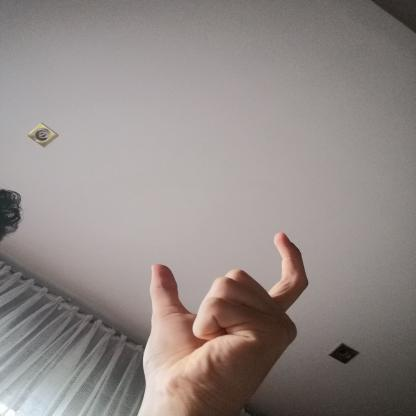NOON: (127, 222, 327, 410)
